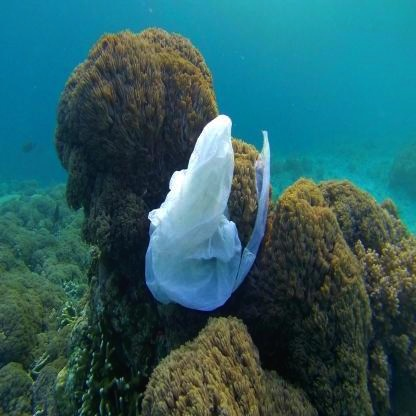pbag: (139, 108, 275, 315)
